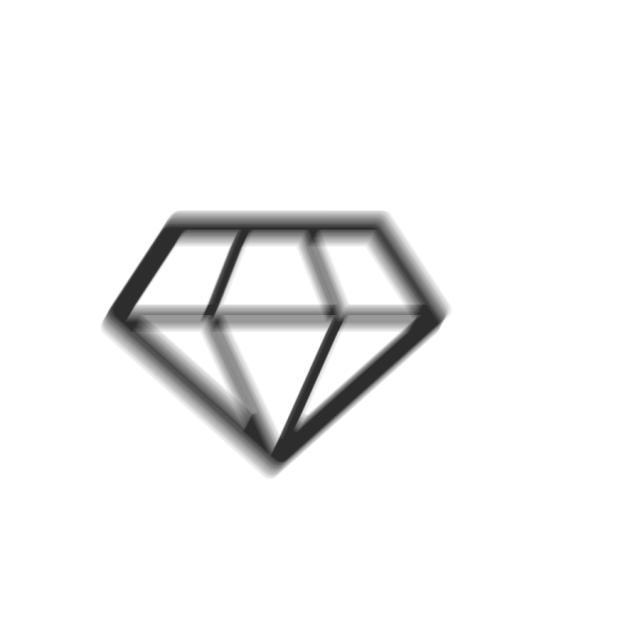diamond: (97, 206, 457, 487)
